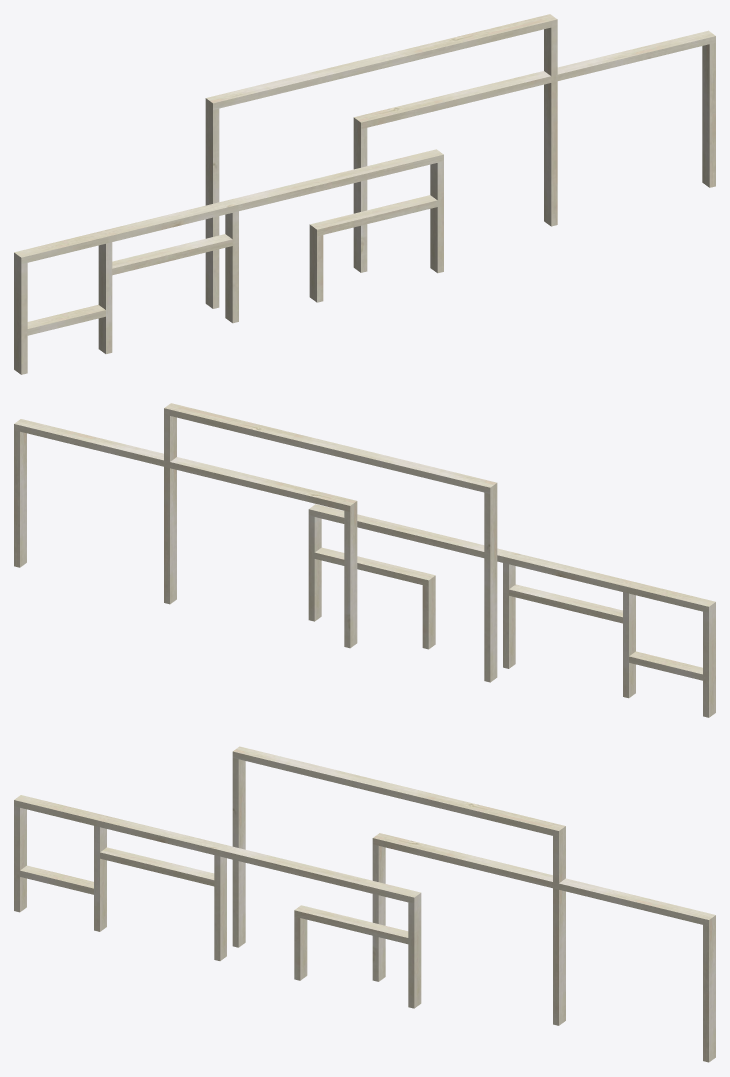
The model's file is aw13_whitepine.fbx.
The picture shows the model from 3 angles, top to bottom: view 1: azimuth 30°, elevation 25°; view 2: azimuth 150°, elevation 25°; view 3: azimuth 330°, elevation 25°; orthographic projection. The views are drawn at different scales.
Parts seen in each view (by area): view 1: aw13_whitepine; view 2: aw13_whitepine; view 3: aw13_whitepine.
Boxes of the visible parts, box(x1,y1,x2,y2) form: aw13_whitepine: box(14, 14, 715, 374); aw13_whitepine: box(14, 403, 715, 717); aw13_whitepine: box(14, 746, 715, 1062).
Size of the model in its own units: 338 by 93 by 22.
1 material, 1 textured.
